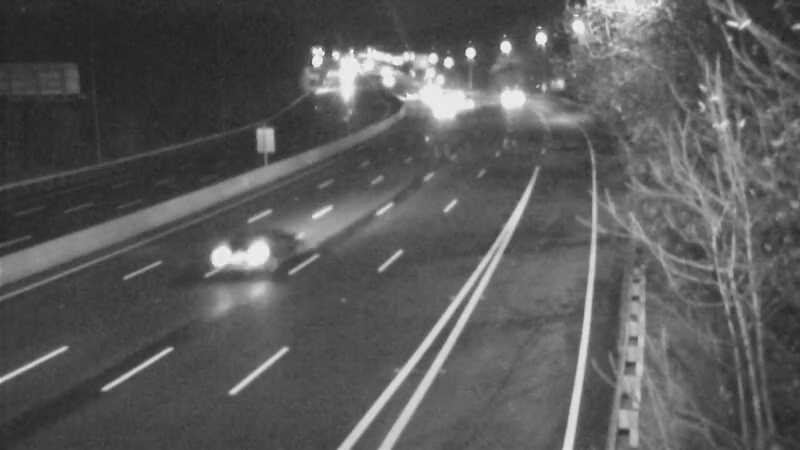vehicle: (187, 222, 267, 302), (477, 74, 527, 124), (418, 89, 468, 139)
